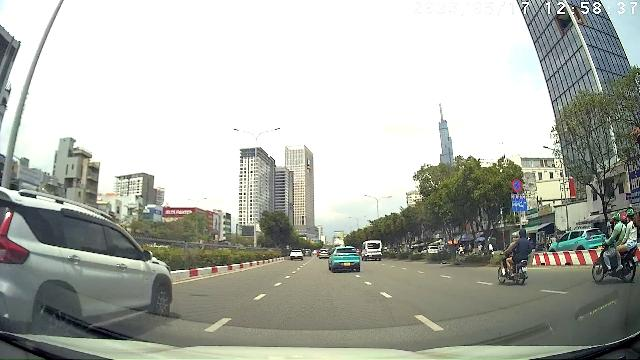130-cam-dung-va-do-xe: (512, 180, 522, 193)
